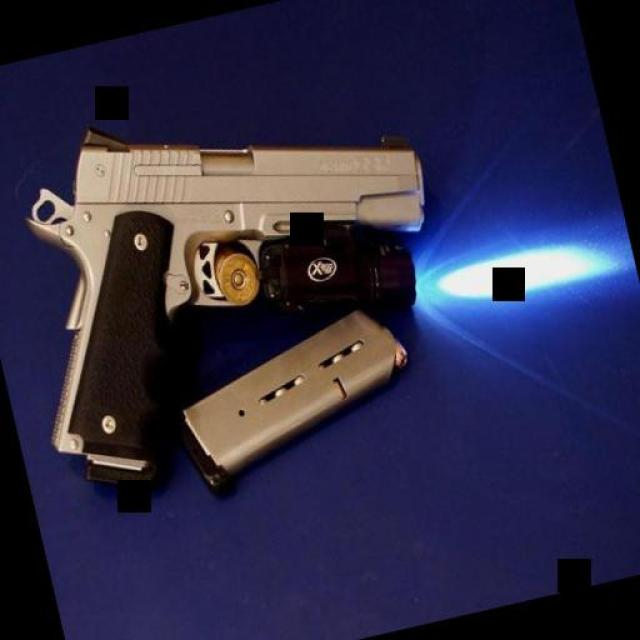gun: (0, 42, 488, 534)
